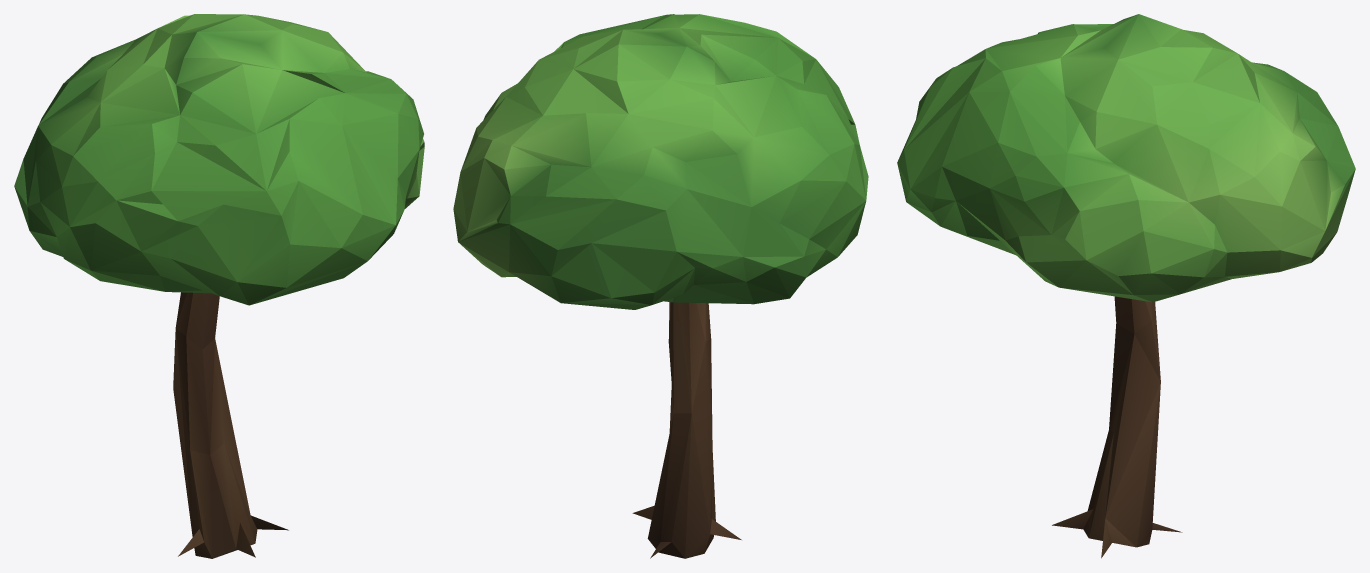
Rendered from broadleaf_mature_irregular_continuous_far.glb.
3 views of the same model, side by side, from view 1: azimuth 30°, elevation 25°; view 2: azimuth 150°, elevation 25°; view 3: azimuth 270°, elevation 25° (orthographic). The views are drawn at different scales.
Visible parts, largest first — view 1: broadleaf_mature_irregular_continuous_LOD3; view 2: broadleaf_mature_irregular_continuous_LOD3; view 3: broadleaf_mature_irregular_continuous_LOD3.
Boxes of the visible parts, x1,y1,x2,y2 form: broadleaf_mature_irregular_continuous_LOD3: (14, 14, 424, 558); broadleaf_mature_irregular_continuous_LOD3: (453, 14, 868, 558); broadleaf_mature_irregular_continuous_LOD3: (897, 14, 1355, 558).
Bounding box in the file's own units: 3.63 × 4.93 × 3.93.
